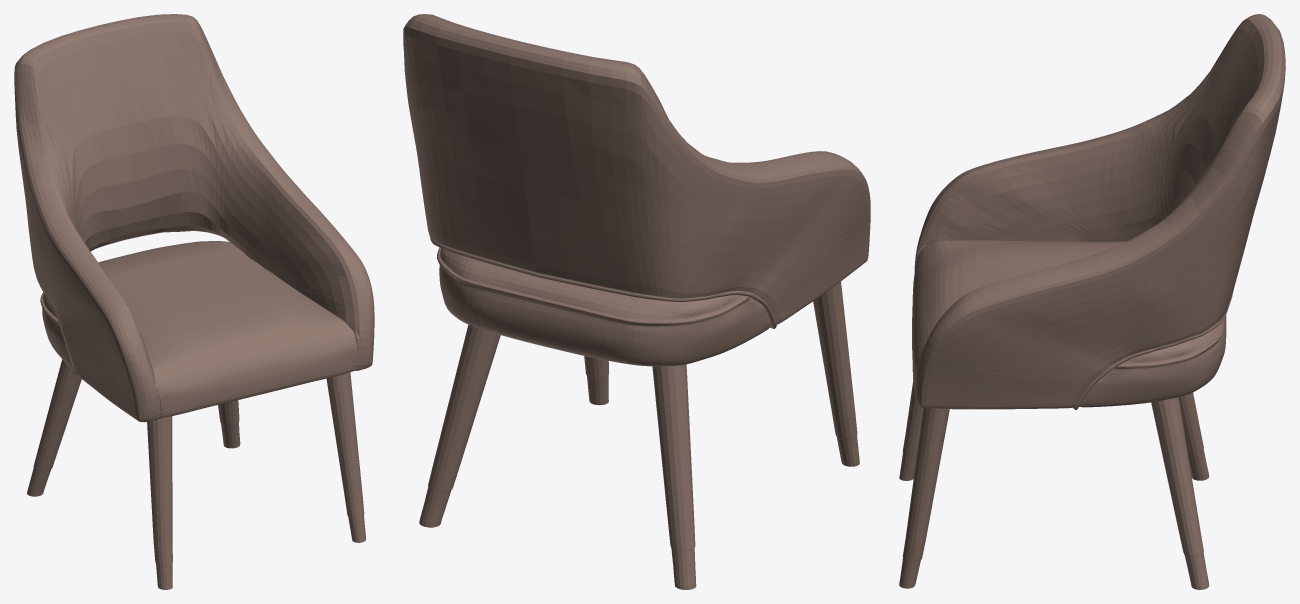
Rendered from office_chair-TSR-005.glb.
The picture shows the model from 3 angles, left to right: view 1: azimuth 30°, elevation 25°; view 2: azimuth 150°, elevation 25°; view 3: azimuth 270°, elevation 25°; orthographic projection. The views are drawn at different scales.
Parts seen in each view (by area): view 1: RootMesh; view 2: RootMesh; view 3: RootMesh.
Part boxes in pixels (x1=…): RootMesh: x1=14, y1=14, x2=374, y2=589; RootMesh: x1=403, y1=14, x2=870, y2=589; RootMesh: x1=899, y1=14, x2=1285, y2=589.
Bounding box in the file's own units: 0.8005 × 1.27 × 0.9307.
